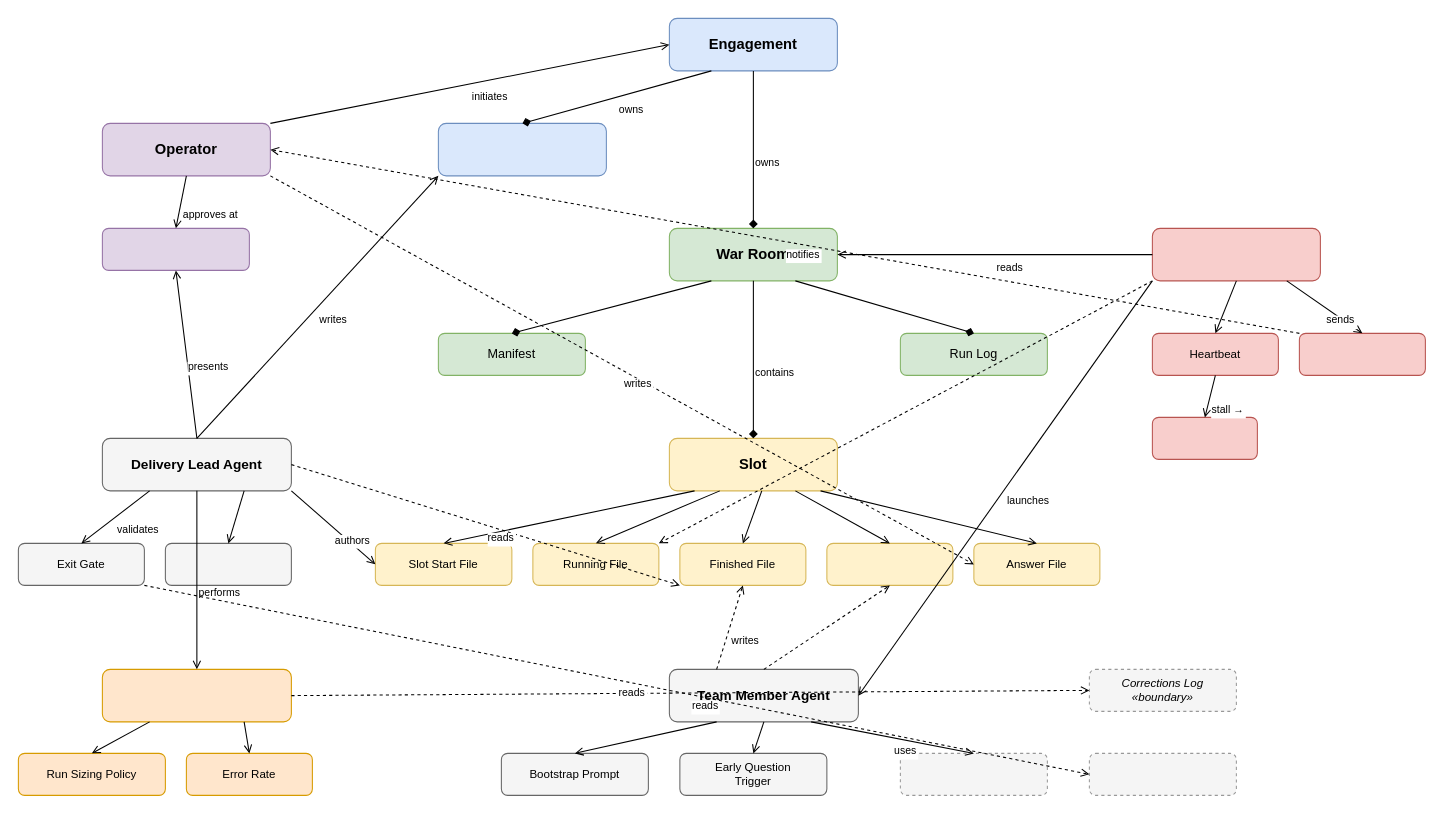
The diagram is 1444 pixels wide and 814 high, and some of its shapes have lost their labels. The shapes that lost their labels are listed below. From the top down, each one's box as (x1, y1, x2, y2) in pixels, then its label:
(437, 122, 606, 176): Agile Delivery Plan
(101, 227, 249, 270): Checkpoint
(1151, 227, 1320, 281): CLI Harness
(1298, 332, 1425, 375): Notification
(1151, 416, 1257, 459): Retry
(164, 542, 291, 585): Slot Chaining
(826, 542, 953, 585): Blocked File
(101, 668, 291, 722): Adaptive Run Sizing
(899, 752, 1047, 795): Practice Skill «boundary»
(1088, 752, 1236, 795): Stage Definition «boundary»
